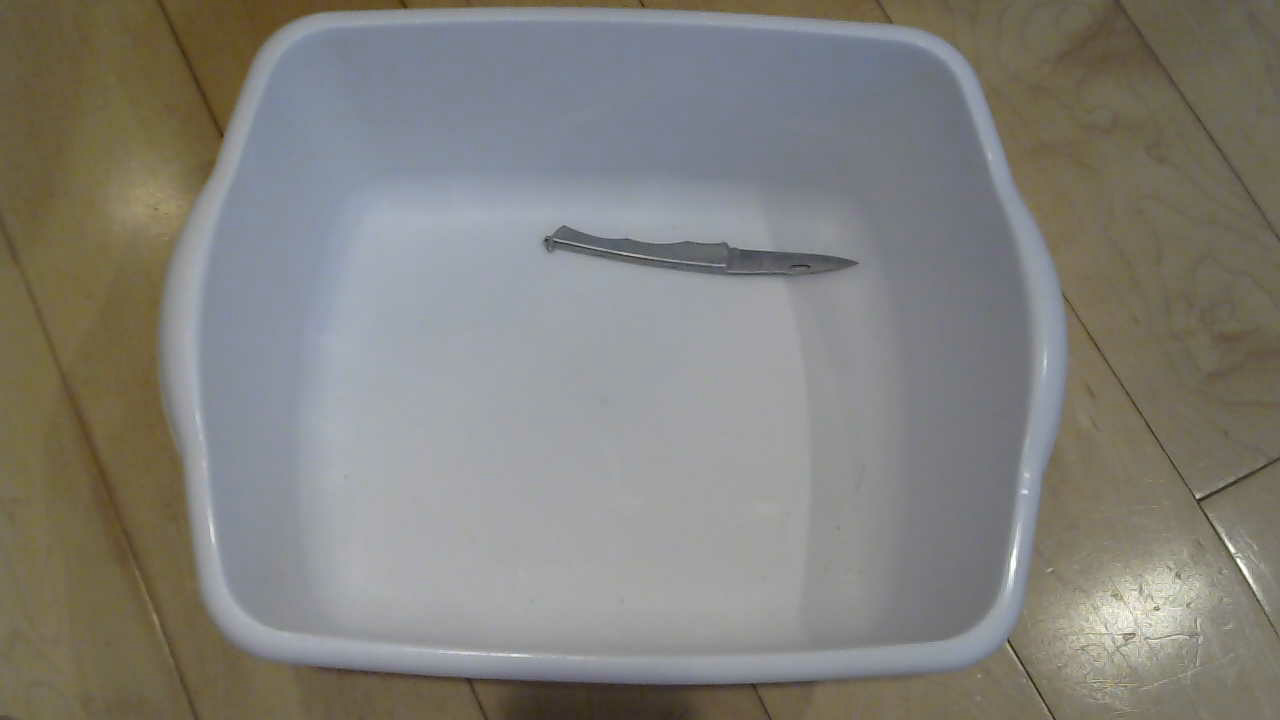knife: (559, 204, 934, 309)
